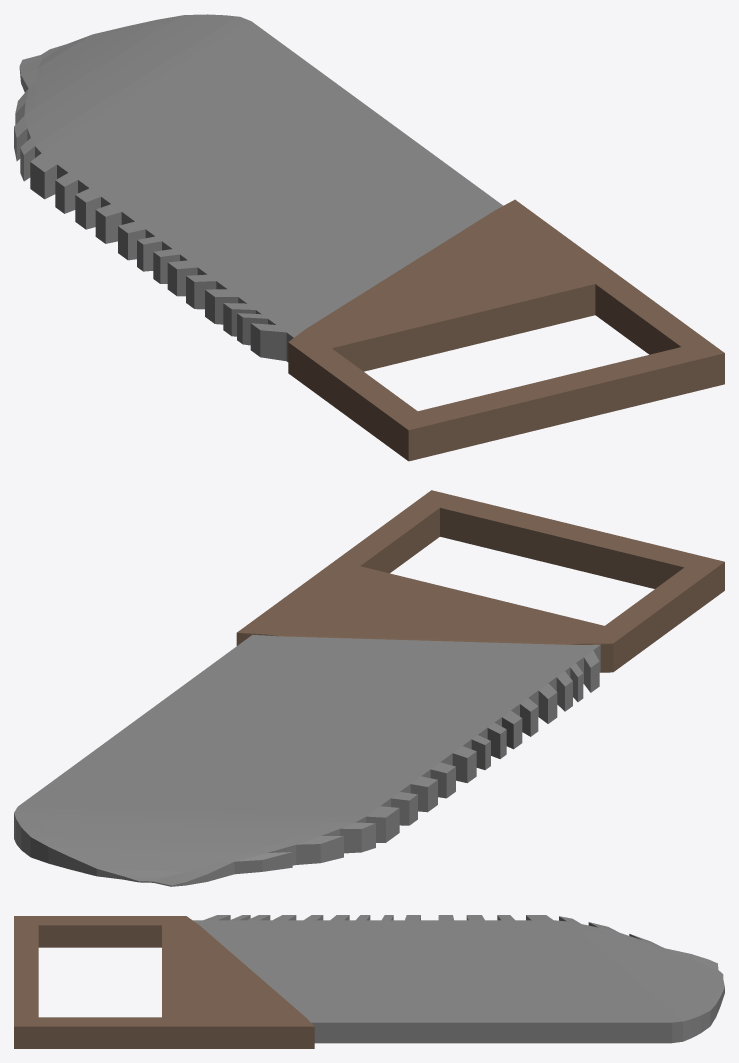
Rendered from sierra.fbx.
3 views of the same model, one above another, from view 1: azimuth 30°, elevation 25°; view 2: azimuth 150°, elevation 25°; view 3: azimuth 270°, elevation 25° (orthographic). The views are drawn at different scales.
Visible parts, largest first — view 1: Cube; view 2: Cube; view 3: Cube.
Boxes of the visible parts, x1=… form: Cube: x1=14, y1=14, x2=724, y2=461; Cube: x1=14, y1=490, x2=724, y2=886; Cube: x1=14, y1=915, x2=724, y2=1048.
Bounding box in the file's own units: 271 × 25 × 721.
